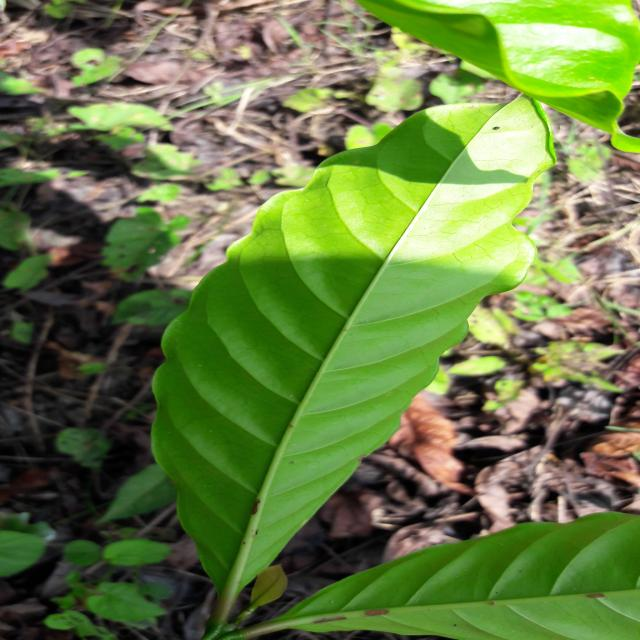Sanas: (149, 94, 561, 631)
